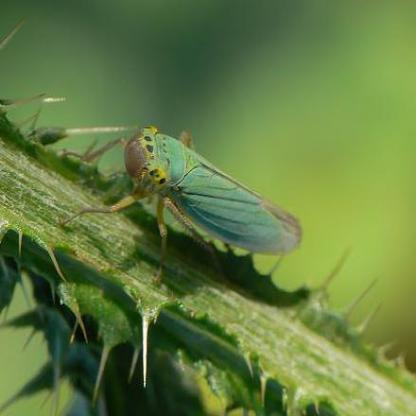Green-Leafhopper: (86, 120, 302, 262)
